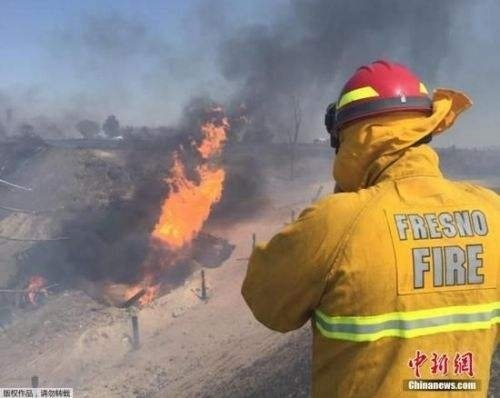fire: (149, 108, 233, 246)
